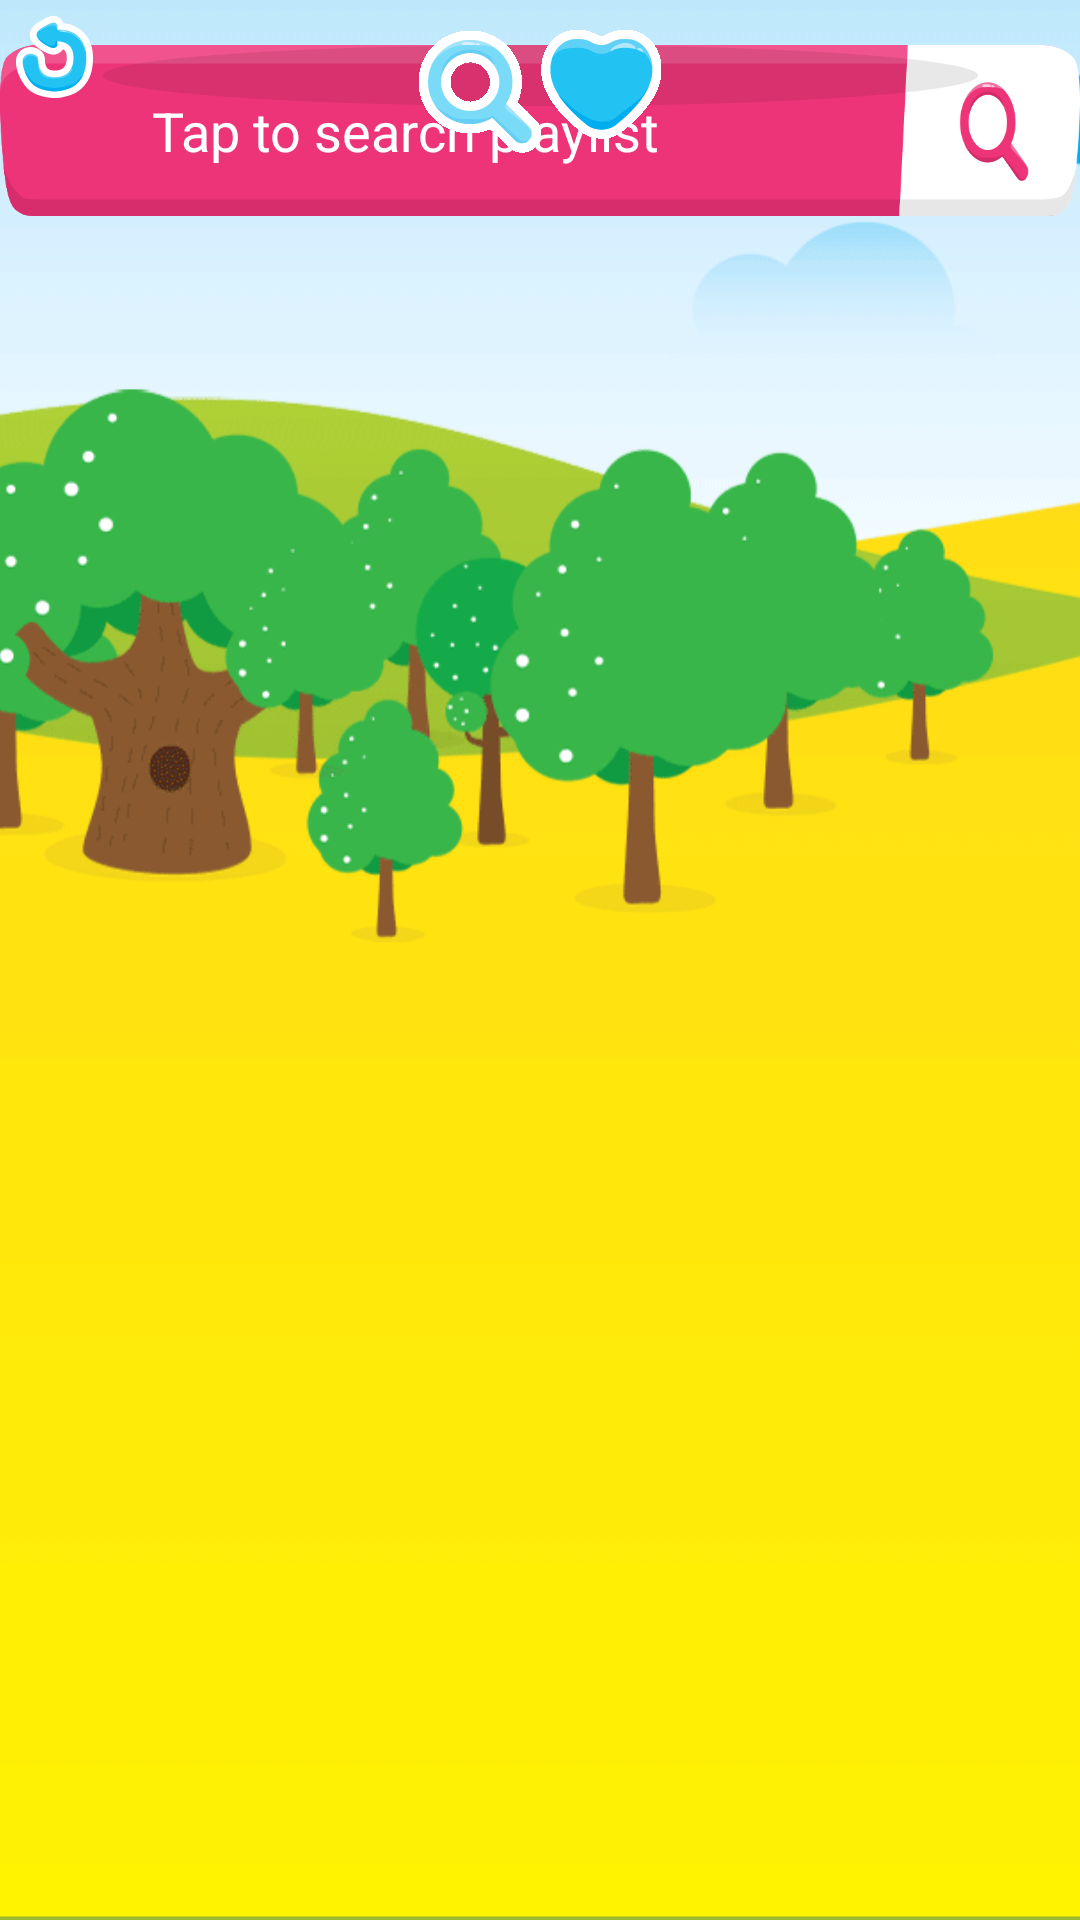

Point at icon controls on the screen. Image size 1080×1920, points as (x=x, y=y).
all favorites: (x=601, y=84)
back: (x=54, y=56)
